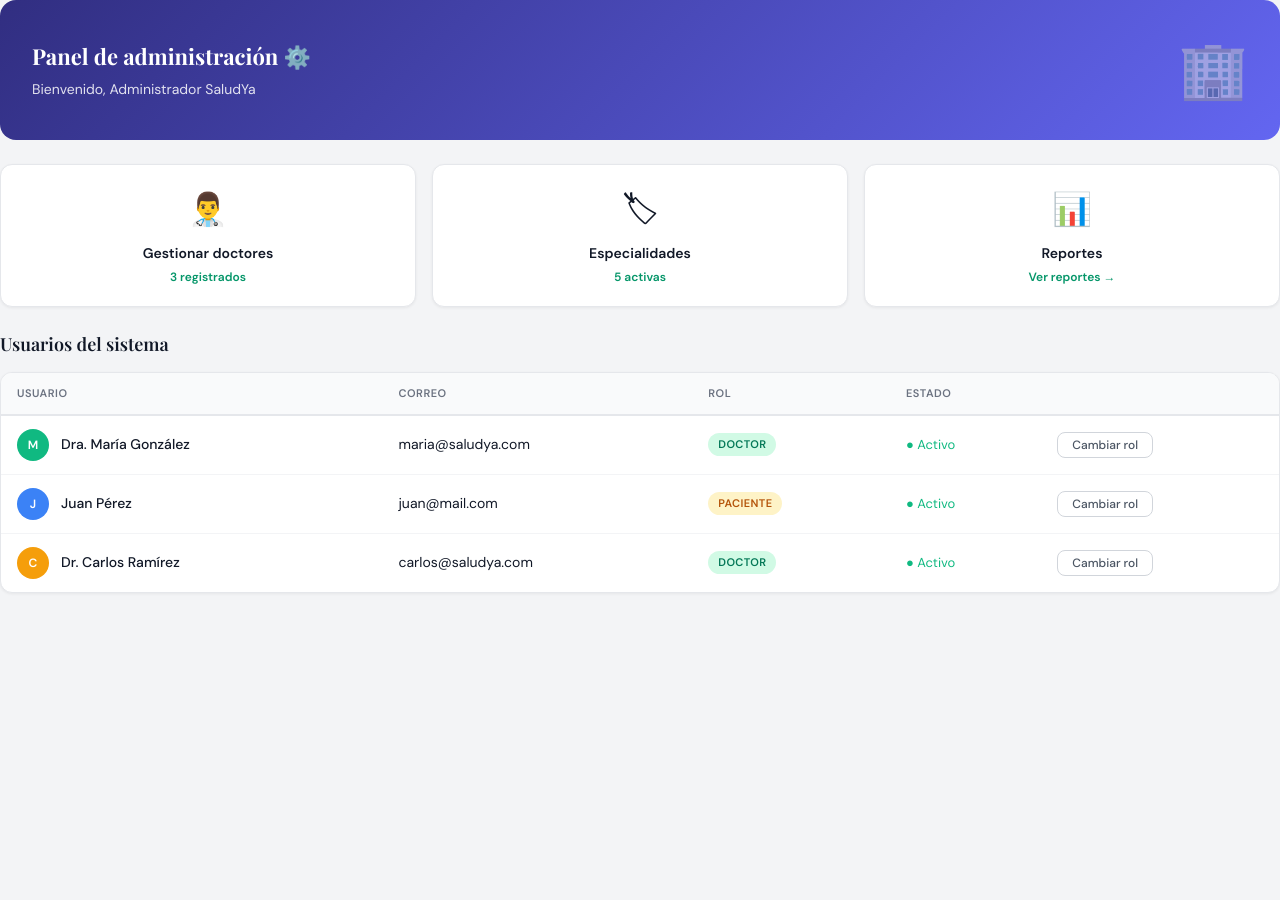
Test: <DashboardAdmin /> › al seleccionar rol "Paciente" en el modal, oculta el aviso de Doctor
Click the button "Cambiar rol" in the row of "Dra. María González" at x=1105, y=444, box [1057,432,1153,458]
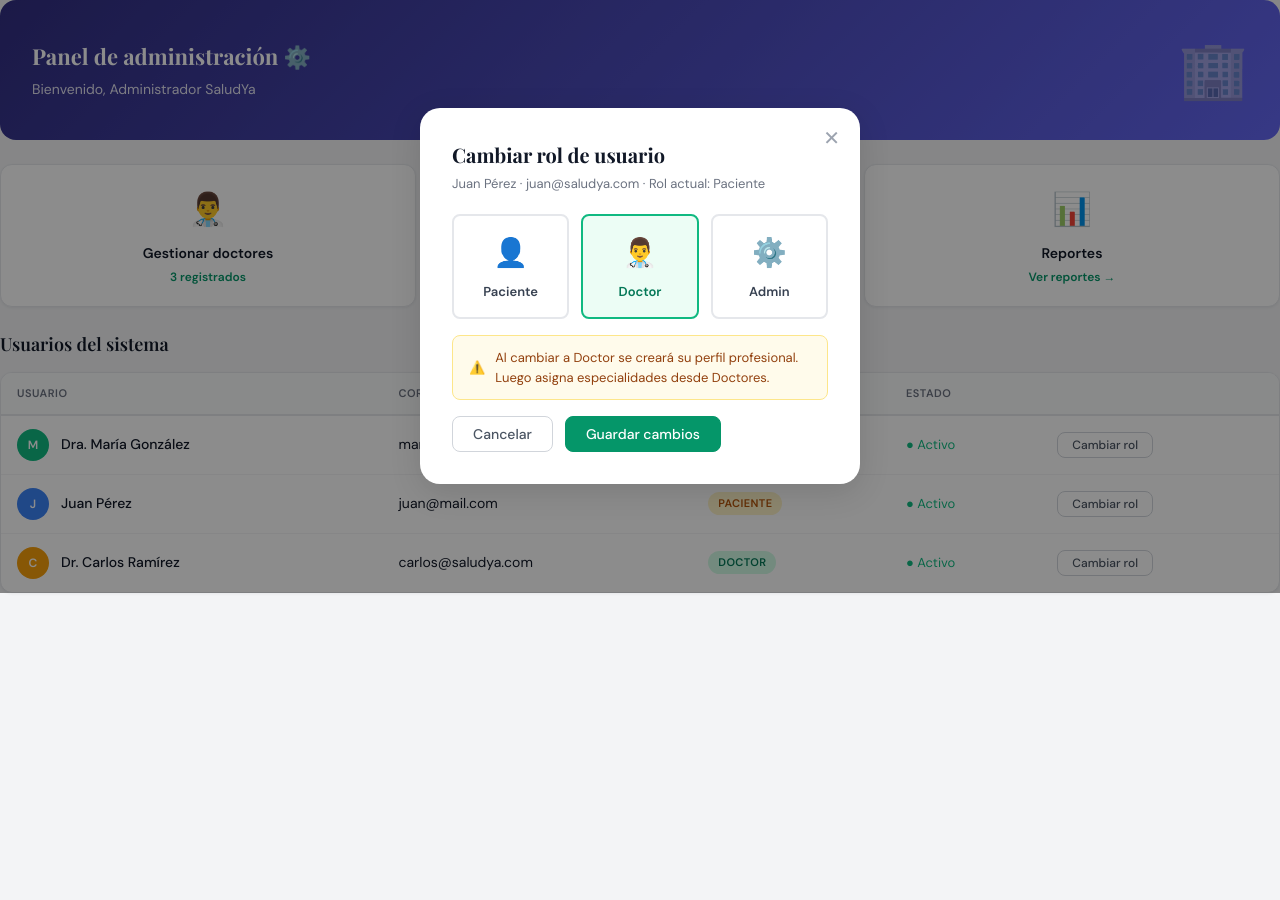
Click the text "Paciente" at x=511, y=291, box [483,283,538,300]
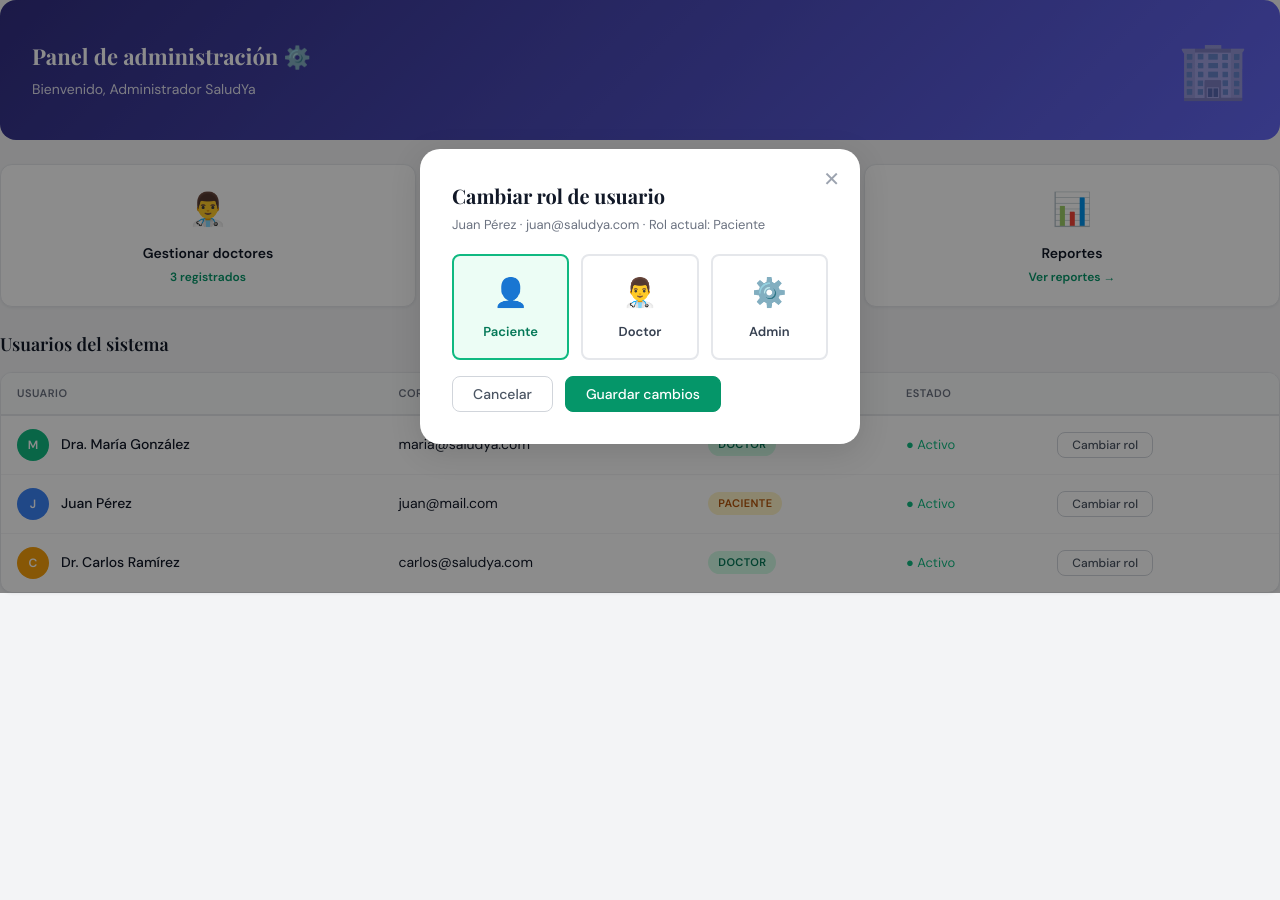
expect the text "Al cambiar a Doctor" is gone: met
